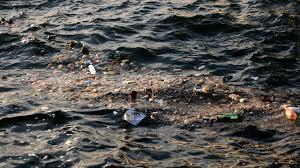Trash: (36, 0, 285, 168)
